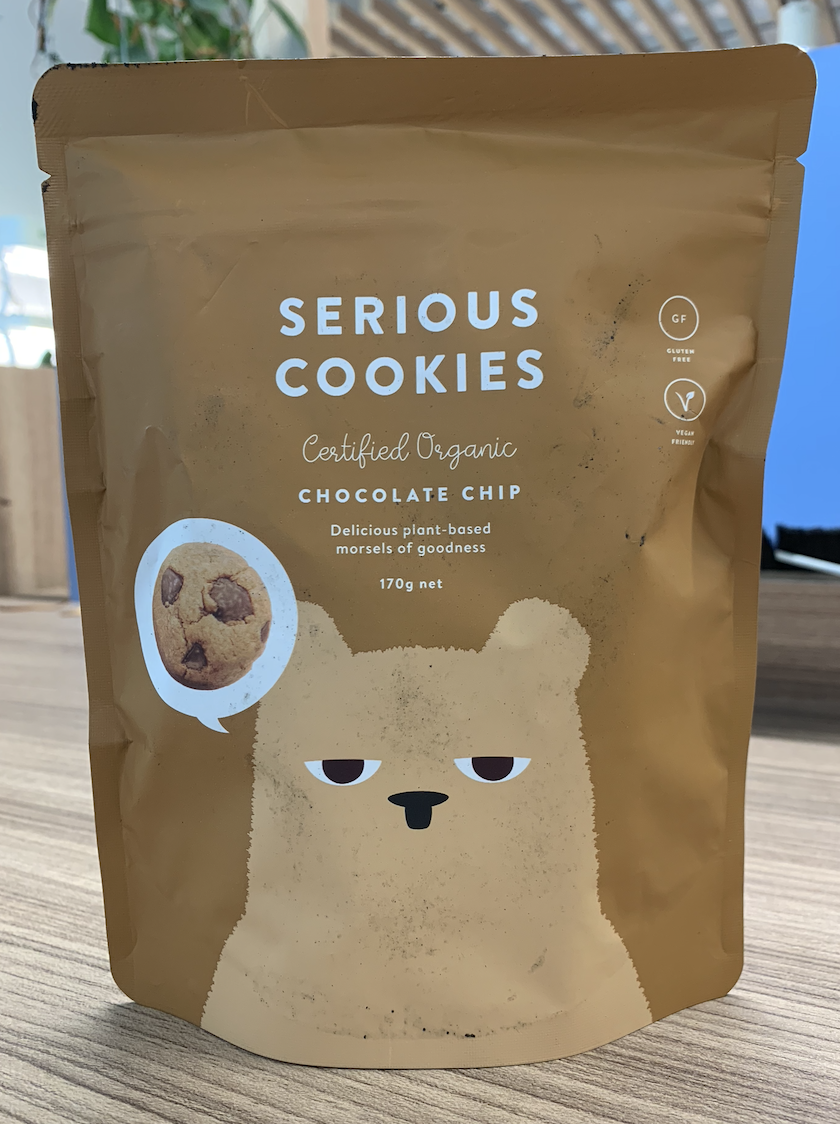cookies_150g: (141, 181, 757, 1007)
